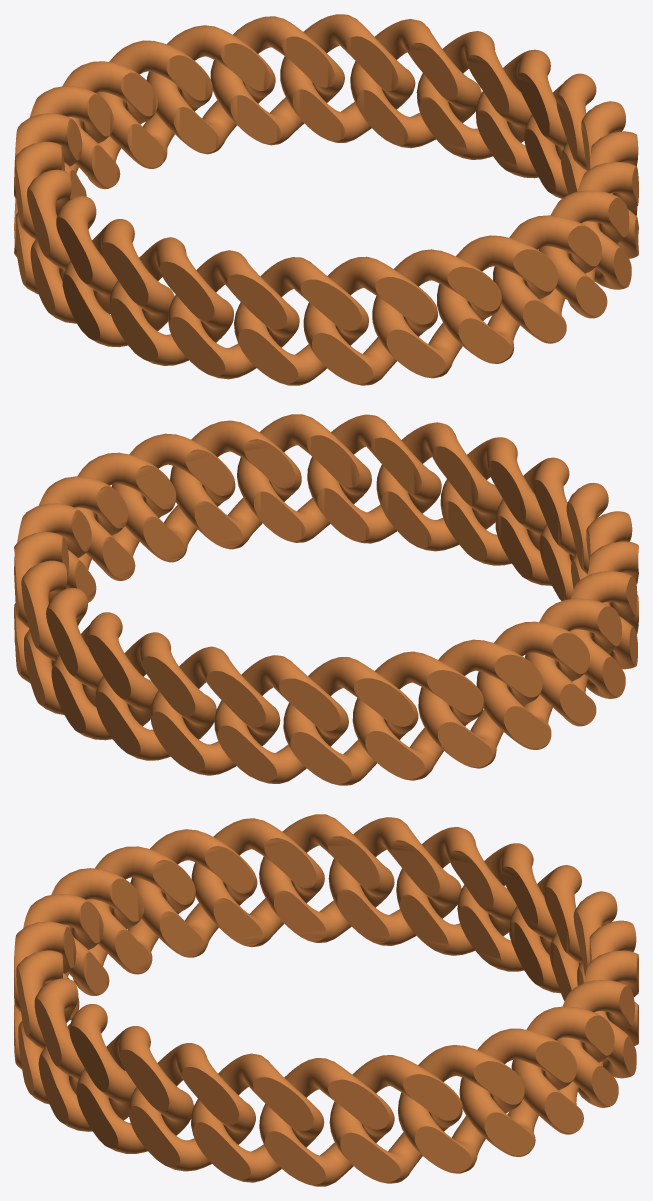
3 renders of one model, top to bottom at view 1: azimuth 30°, elevation 25°; view 2: azimuth 150°, elevation 25°; view 3: azimuth 270°, elevation 25°, orthographic.
Visible parts, largest first — view 1: Bracelet_LOD0; view 2: Bracelet_LOD0; view 3: Bracelet_LOD0.
Part boxes in pixels (x1=…): Bracelet_LOD0: x1=14, y1=14, x2=638, y2=385; Bracelet_LOD0: x1=14, y1=414, x2=638, y2=785; Bracelet_LOD0: x1=14, y1=814, x2=638, y2=1186.
Size of the model in its own units: 12.04 by 2.6 by 12.04.
